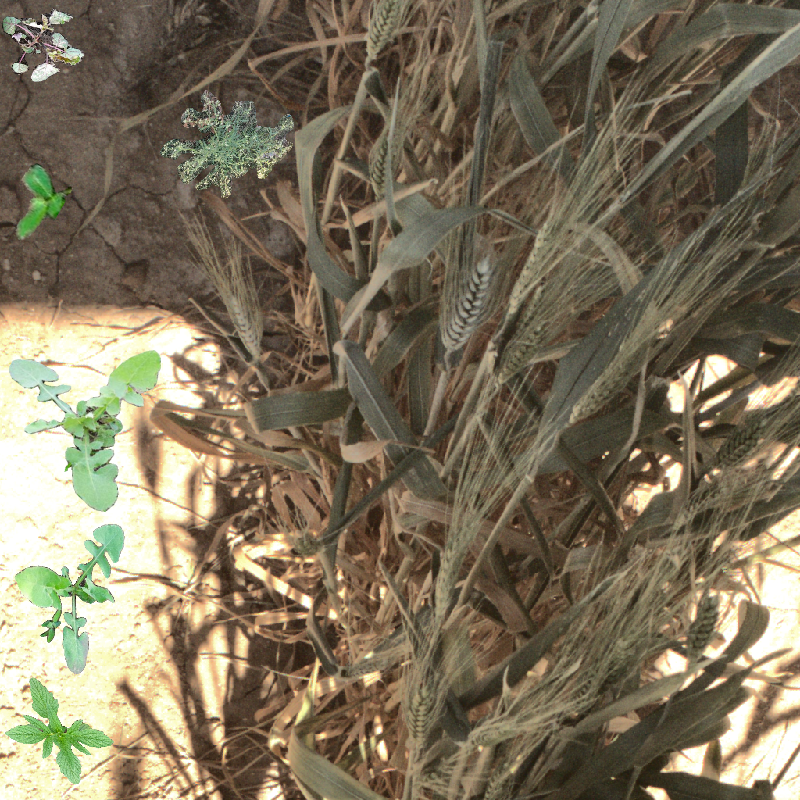spikelet: (566, 328, 661, 433), (433, 510, 482, 626), (440, 253, 497, 352), (502, 222, 556, 321), (368, 94, 414, 195), (560, 647, 631, 710), (717, 404, 773, 473), (498, 327, 552, 387), (685, 589, 722, 671), (225, 289, 265, 361), (362, 1, 411, 59), (677, 485, 742, 522), (405, 681, 438, 751), (465, 715, 531, 744), (342, 647, 402, 677)
weed: (9, 350, 161, 512), (8, 519, 129, 670), (149, 87, 294, 198), (1, 674, 115, 791), (1, 1, 85, 87), (1, 160, 67, 238)
